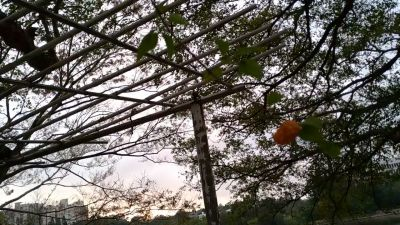eggs: (272, 119, 302, 144)
